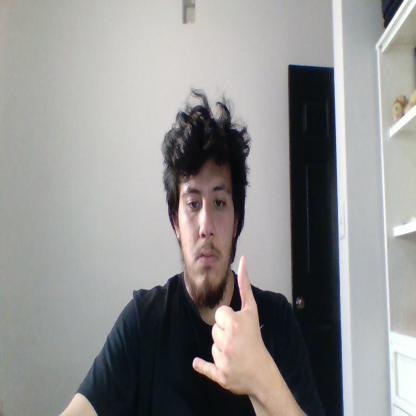Y: (192, 254, 262, 393)
